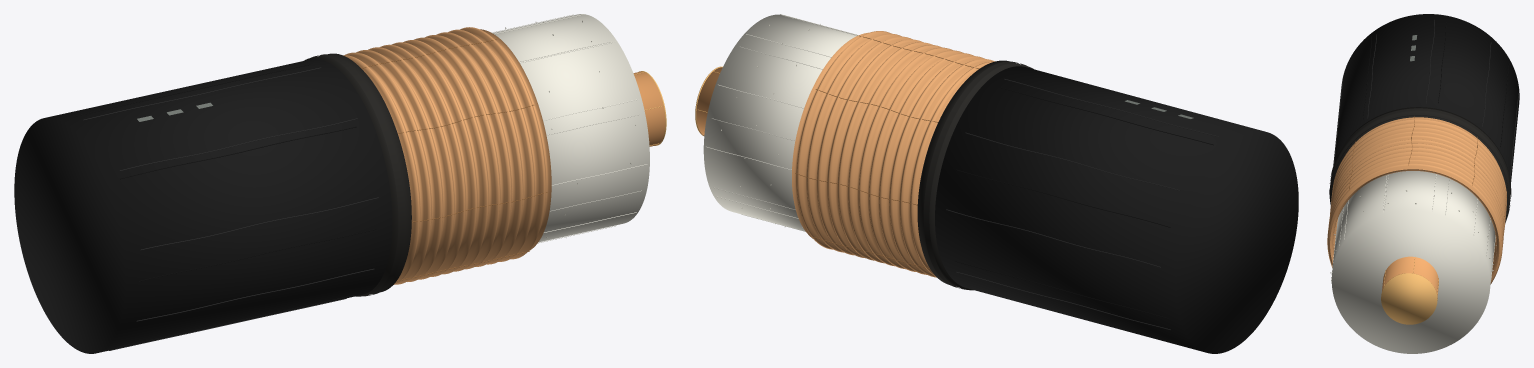
Rendered from rf-ldf15-macro.glb.
3 views of the same model, side by side, from view 1: azimuth 30°, elevation 25°; view 2: azimuth 150°, elevation 25°; view 3: azimuth 270°, elevation 25° (orthographic). The views are drawn at different scales.
Visible parts, largest first — view 1: macro hardline jacket body, annular corrugated solid shield, macro foam dielectric exposed core, hardline jacket cut wall, rounded jacket cut lip, polished solid center conductor; view 2: macro hardline jacket body, annular corrugated solid shield, macro foam dielectric exposed core, hardline jacket cut wall, rounded jacket cut lip, polished solid center conductor; view 3: macro foam dielectric exposed core, macro hardline jacket body, annular corrugated solid shield, polished conductor cut face glow, hardline jacket cut wall, polished solid center conductor, rounded jacket cut lip, inner jacket shadow bevel.
Boxes of the visible parts, x1,y1,x2,y2 form: macro hardline jacket body: (14,59,392,353); annular corrugated solid shield: (343,27,551,284); macro foam dielectric exposed core: (492,14,649,242); hardline jacket cut wall: (304,53,410,296); rounded jacket cut lip: (311,54,404,296); polished solid center conductor: (633,71,665,146); macro hardline jacket body: (935,66,1298,353); annular corrugated solid shield: (792,31,994,277); macro foam dielectric exposed core: (703,14,857,231); hardline jacket cut wall: (918,60,1033,290); rounded jacket cut lip: (923,61,1026,289); polished solid center conductor: (696,67,722,135); macro foam dielectric exposed core: (1331,171,1495,353); macro hardline jacket body: (1333,14,1519,183); annular corrugated solid shield: (1327,117,1506,284); polished conductor cut face glow: (1381,273,1437,324); hardline jacket cut wall: (1329,107,1510,222); polished solid center conductor: (1382,256,1438,297); rounded jacket cut lip: (1329,108,1511,213); inner jacket shadow bevel: (1331,115,1508,197).
Size of the model in its own units: 6.5 by 2.42 by 2.56.
